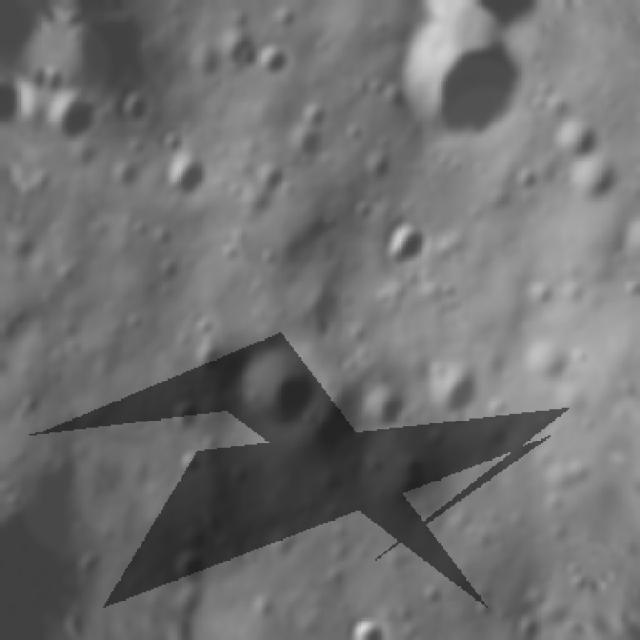crater: (370, 9, 541, 162), (58, 0, 198, 117), (223, 337, 334, 454), (414, 346, 492, 432), (278, 270, 354, 347), (368, 208, 442, 282), (350, 377, 421, 449), (42, 82, 109, 155), (154, 146, 223, 214), (562, 153, 627, 210), (543, 104, 602, 165), (168, 542, 230, 596), (164, 392, 216, 443), (246, 34, 296, 84), (109, 88, 157, 132), (215, 32, 257, 82), (188, 336, 230, 381), (614, 210, 640, 275), (341, 611, 399, 640)
